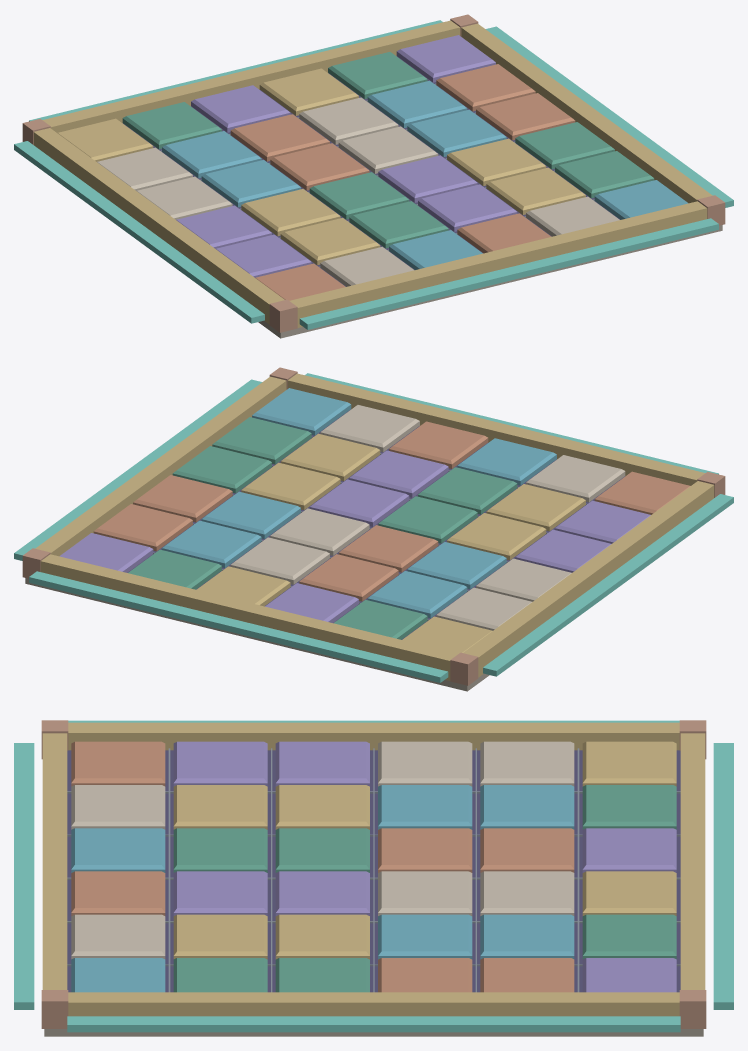
The model's file is planar_6x6_with_rails_graybox.glb.
3 renders of one model, top to bottom at view 1: azimuth 30°, elevation 25°; view 2: azimuth 150°, elevation 25°; view 3: azimuth 270°, elevation 25°, orthographic. The views are drawn at different scales.
Parts seen in each view (by area): view 1: planar.frame.edge.south, planar.frame.edge.north, planar.frame.edge.west, planar.frame.edge.east, planar.rail.channel.south, planar.rail.channel.west, planar.rail.channel.east, planar.tile.r1.c4.river, planar.tile.r4.c1.sun, planar.tile.r2.c3.clay, planar.tile.r0.c3.sun, planar.tile.r2.c1.river (+36 smaller); view 2: planar.frame.edge.north, planar.frame.edge.south, planar.frame.edge.west, planar.frame.edge.east, planar.rail.channel.north, planar.rail.channel.west, planar.rail.channel.east, planar.tile.r1.c1.river, planar.tile.r4.c4.sun, planar.tile.r3.c3.indigo, planar.tile.r2.c2.ember, planar.tile.r3.c1.sun (+36 smaller); view 3: planar.frame.edge.east, planar.frame.edge.west, planar.playfield, planar.rail.channel.east, planar.frame.edge.north, planar.frame.edge.south, planar.rail.channel.north, planar.rail.channel.south, planar.tile.r2.c0.clay, planar.tile.r2.c4.river, planar.tile.r3.c0.indigo, planar.tile.r3.c4.sun (+38 smaller).
Boxes of the visible parts, x1,y1,x2,y2 form: planar.frame.edge.south: (289,201,707,327); planar.frame.edge.north: (42,20,460,132); planar.frame.edge.west: (33,128,284,324); planar.frame.edge.east: (461,23,712,203); planar.rail.channel.south: (299,218,718,329); planar.rail.channel.west: (14,141,264,323); planar.rail.channel.east: (485,26,733,207); planar.tile.r1.c4.river: (367,80,467,128); planar.tile.r4.c1.sun: (280,218,380,265); planar.tile.r2.c3.clay: (338,126,438,173); planar.tile.r0.c3.sun: (259,68,358,115); planar.tile.r2.c1.river: (201,160,300,207); planar.frame.edge.north: (40,554,458,680); planar.frame.edge.south: (287,373,705,485); planar.frame.edge.west: (463,481,714,677); planar.frame.edge.east: (35,376,286,556); planar.rail.channel.north: (29,571,448,682); planar.rail.channel.west: (483,494,733,676); planar.rail.channel.east: (14,379,262,560); planar.tile.r1.c1.river: (367,571,467,618); planar.tile.r4.c4.sun: (280,433,380,481); planar.tile.r3.c3.indigo: (309,479,409,526); planar.tile.r2.c2.ember: (338,525,438,572); planar.tile.r3.c1.sun: (447,513,546,560); planar.frame.edge.east: (68,992,679,1016); planar.frame.edge.west: (68,722,679,750); planar.playfield: (67,750,680,992); planar.rail.channel.east: (67,1016,680,1032); planar.frame.edge.north: (680,733,705,989); planar.frame.edge.south: (42,733,67,989); planar.rail.channel.north: (713,743,733,1009); planar.rail.channel.south: (14,743,34,1009); planar.tile.r2.c0.clay: (378,741,472,786); planar.tile.r2.c4.river: (378,914,472,959); planar.tile.r3.c0.indigo: (275,741,369,786); planar.tile.r3.c4.sun: (275,914,369,959).
Bounding box in the file's own units: 7.04 × 0.395 × 7.04.
